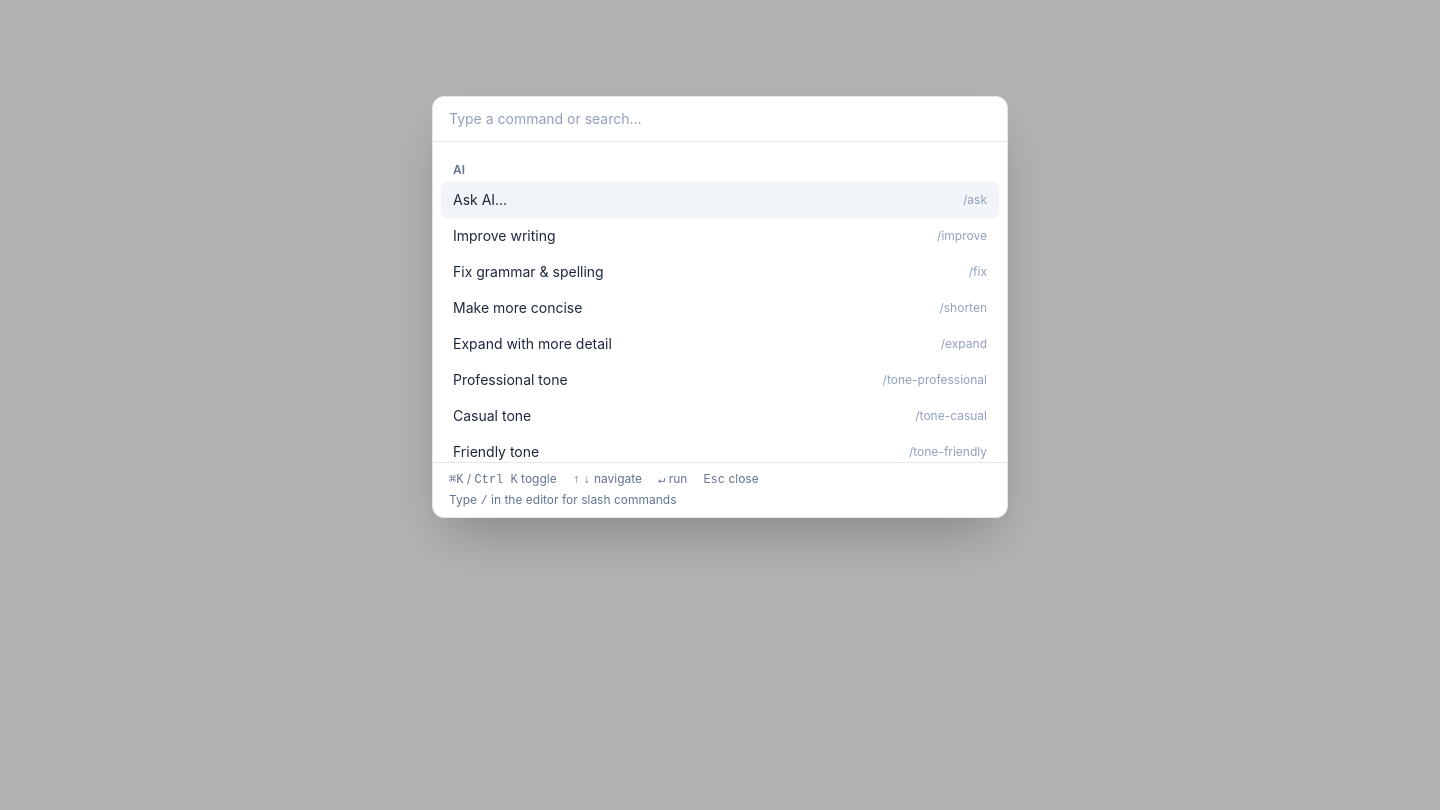
Test: CommandPalette › lists presets and filters them by search text
Expected: the option "Improve writing /improve" is shown, [453,227,987,244]
Type "concise" into the dropdown with placeholder "Type a command or search…".
click(720, 120); type("concise")  # box [433,97,1007,142]
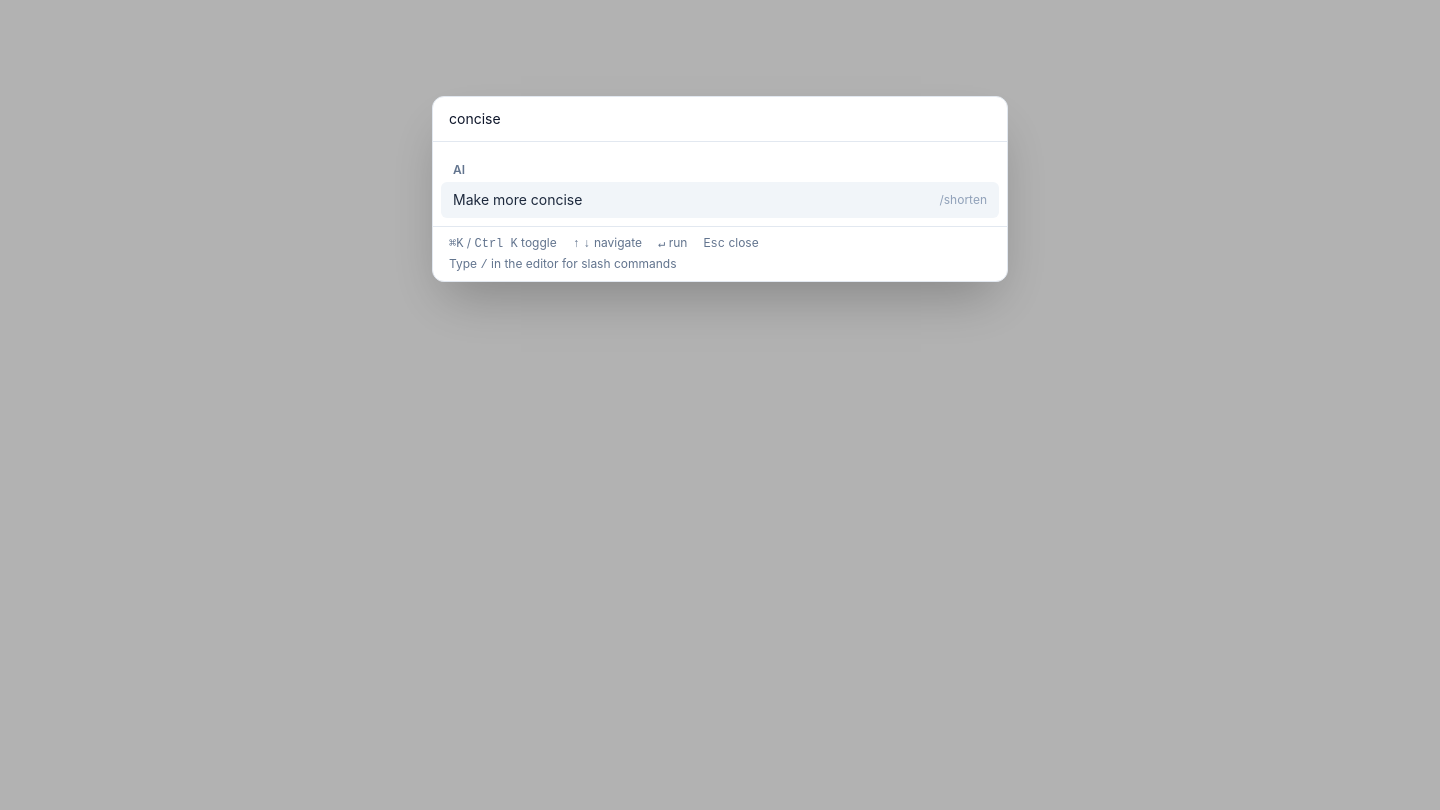
Expected: the option "Make more concise /shorten" is shown, [441,182,999,218]
Expected: the option "Improve writing" is gone
